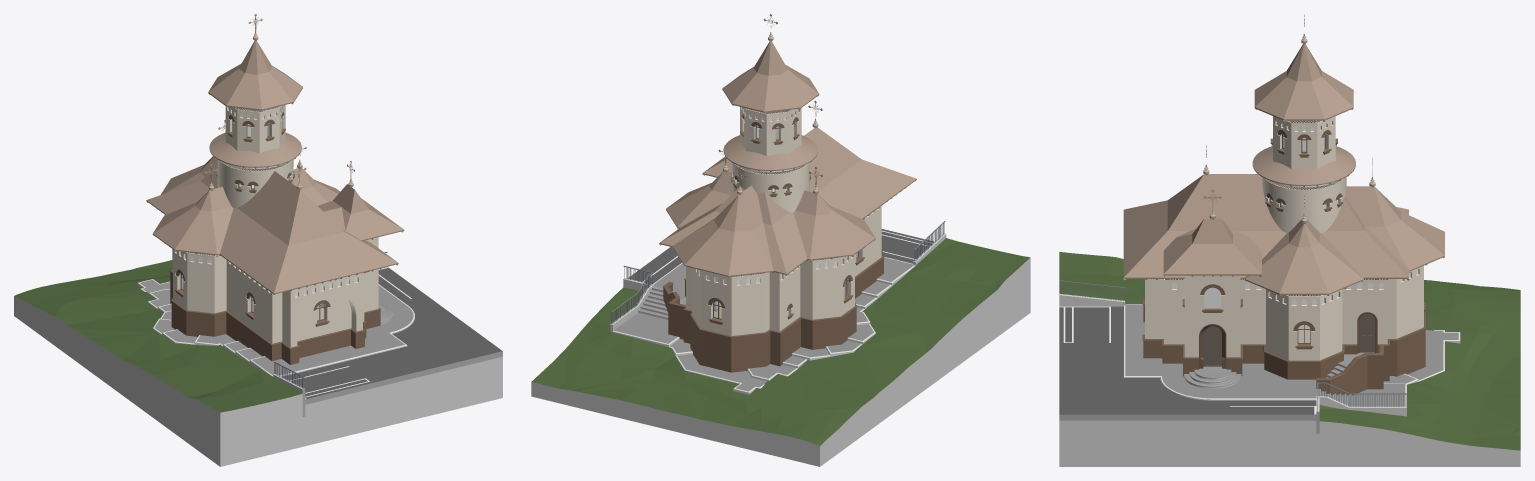
The model's file is Biserica-web.glb.
3 views of the same model, side by side, from view 1: azimuth 30°, elevation 25°; view 2: azimuth 150°, elevation 25°; view 3: azimuth 270°, elevation 25° (orthographic). The views are drawn at different scales.
Parts seen in each view (by area): view 1: RWO_Optimized_1deg; view 2: RWO_Optimized_1deg; view 3: RWO_Optimized_1deg.
Boxes of the visible parts, <box> form: RWO_Optimized_1deg: <box>14,14,502,466</box>; RWO_Optimized_1deg: <box>531,14,1030,466</box>; RWO_Optimized_1deg: <box>1059,14,1520,466</box>.
Size of the model in its own units: 21.54 by 24.58 by 27.21.
